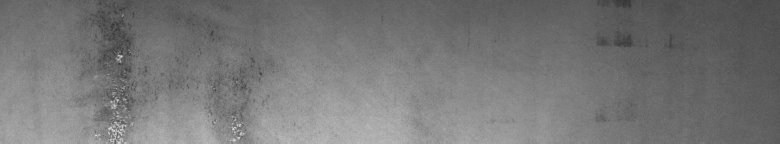hc: (76, 4, 264, 136)
